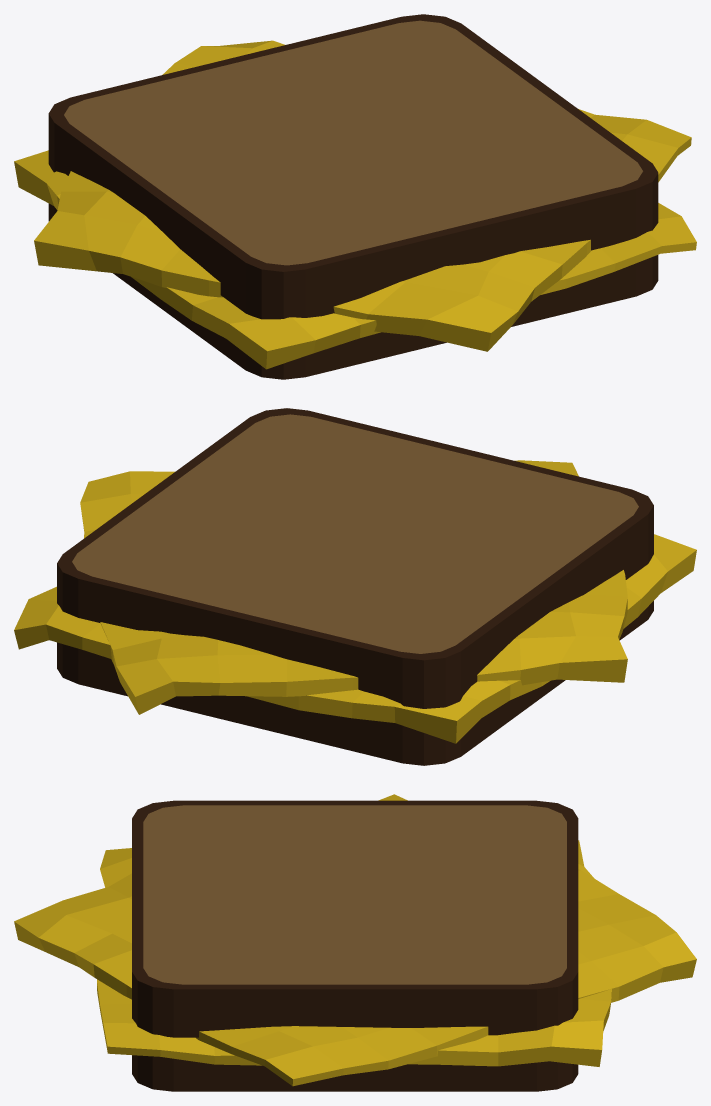
File: grilledCheese.fbx
3 views of the same model, one above another, from view 1: azimuth 30°, elevation 25°; view 2: azimuth 150°, elevation 25°; view 3: azimuth 270°, elevation 25° (orthographic). The views are drawn at different scales.
Visible parts, largest first — view 1: Grilled Cheese; view 2: Grilled Cheese; view 3: Grilled Cheese.
Boxes of the visible parts, <box> form: Grilled Cheese: <box>14,14,696,379</box>; Grilled Cheese: <box>14,408,696,765</box>; Grilled Cheese: <box>14,794,696,1091</box>.
Bounding box in the file's own units: 30.61 × 29.71 × 5.06.
